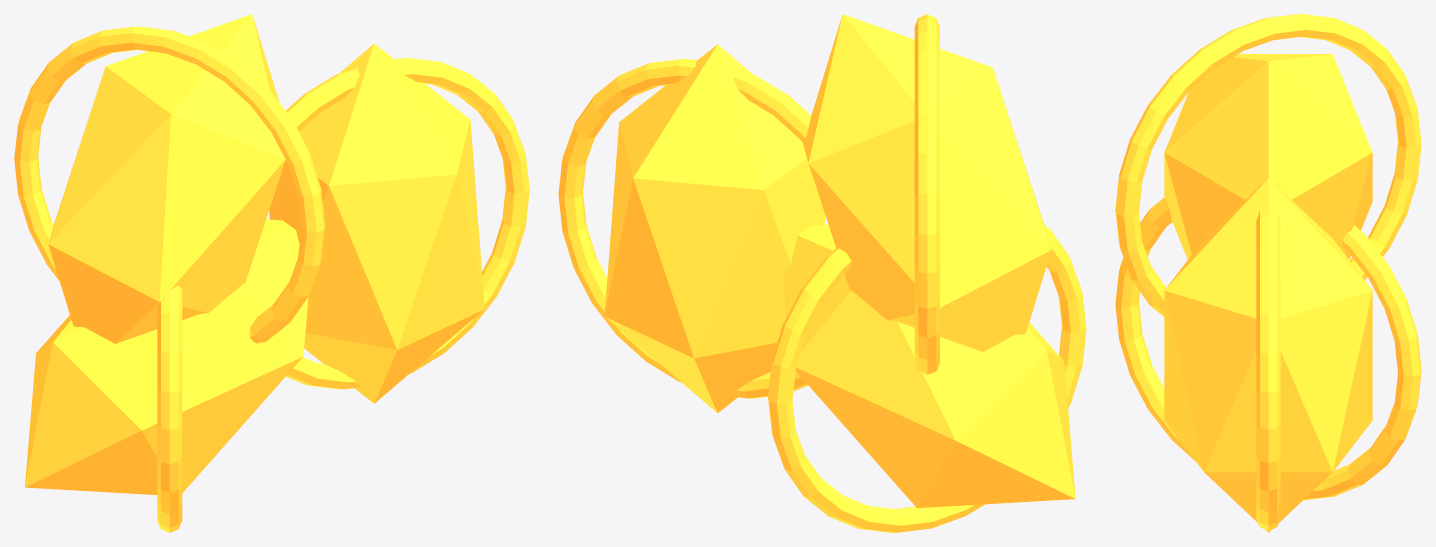
The model's file is burst_runes.glb.
3 views of the same model, side by side, from view 1: azimuth 30°, elevation 25°; view 2: azimuth 150°, elevation 25°; view 3: azimuth 270°, elevation 25° (orthographic). The views are drawn at different scales.
Parts seen in each view (by area): view 1: Mana_01.001, Mana_00.001, Mana_02.001, Torus.020, Torus.019, Torus.021; view 2: Mana_00.001, Mana_01.001, Mana_02.001, Torus.021, Torus.019, Torus.020; view 3: Mana_00.001, Mana_01.001, Torus.020, Torus.021, Torus.019.
Part boxes in pixels (x1,y1,x2,y2): Mana_01.001: (48, 14, 285, 343); Mana_00.001: (269, 43, 484, 403); Mana_02.001: (25, 219, 308, 494); Torus.020: (14, 26, 325, 343); Torus.019: (286, 58, 529, 389); Torus.021: (157, 285, 182, 532); Mana_00.001: (604, 44, 825, 413); Mana_01.001: (803, 14, 1051, 351); Mana_02.001: (783, 224, 1075, 508); Torus.021: (768, 225, 1086, 532); Torus.019: (558, 59, 810, 398); Torus.020: (914, 14, 939, 375); Mana_00.001: (1164, 178, 1372, 532); Mana_01.001: (1164, 54, 1372, 259); Torus.020: (1115, 14, 1421, 316); Torus.021: (1115, 198, 1421, 500); Torus.019: (1256, 182, 1280, 530).
Bounding box in the file's own units: 1.4 × 1.29 × 0.7508.
